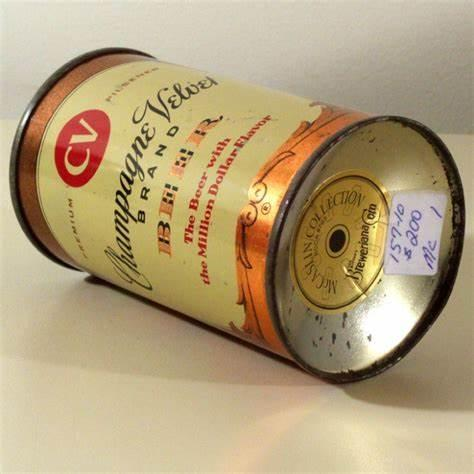metal: (11, 49, 466, 382)
